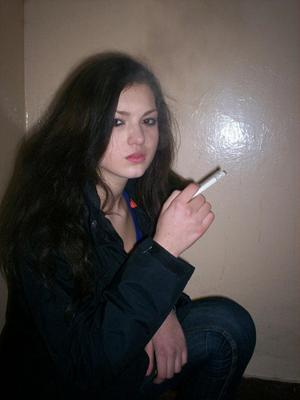person: (2, 53, 257, 396)
